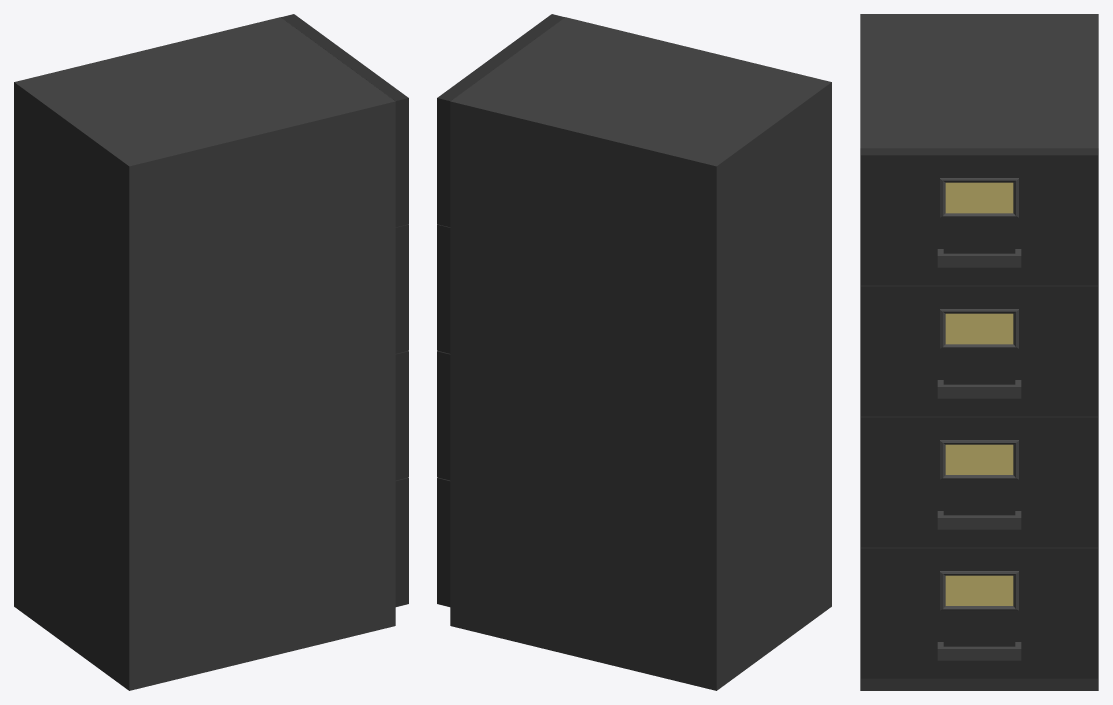
File: drawer.fbx
The picture shows the model from 3 angles, left to right: view 1: azimuth 30°, elevation 25°; view 2: azimuth 150°, elevation 25°; view 3: azimuth 270°, elevation 25°; orthographic projection. The views are drawn at different scales.
Parts seen in each view (by area): view 1: huitugou_2024_09; view 2: huitugou_2024_09; view 3: huitugou_2024_09.
Boxes of the visible parts, x1=… form: huitugou_2024_09: x1=14, y1=14, x2=408, y2=690; huitugou_2024_09: x1=437, y1=14, x2=831, y2=690; huitugou_2024_09: x1=860, y1=14, x2=1098, y2=690.
Size of the model in its own units: 63.8 by 109 by 43.37.
